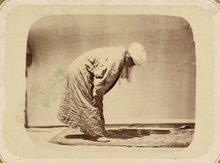ruku: (56, 30, 155, 153)
